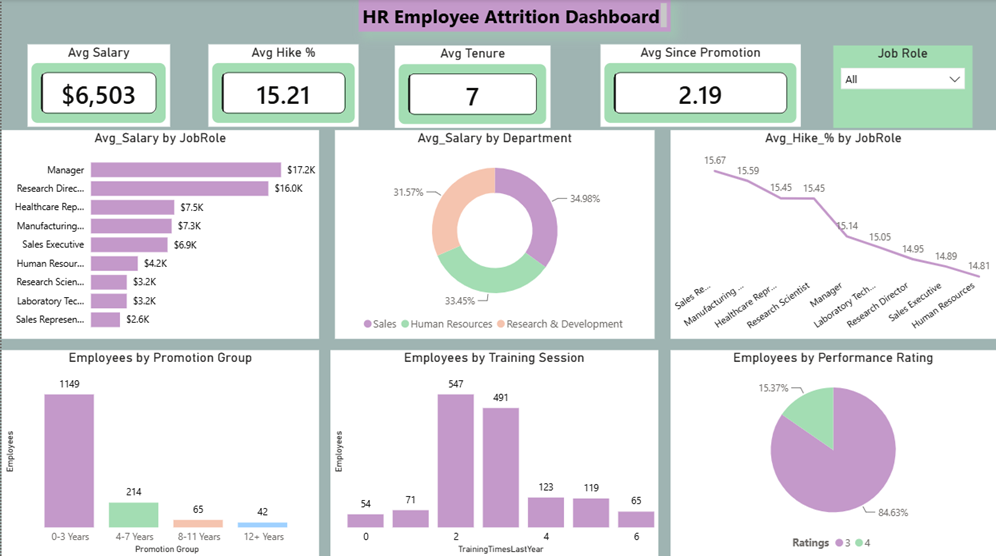

Layout of this report page (visuals, bound fields, positions):
{"tool":"powerbi","page":{"name":"Compensation_Career_Growth","canvas":[1280,720],"ordinal":2},"visuals":[{"type":"cardVisual","title":"Avg Hike %","fields":{"Data":["Employees.Avg_Hike_%"]},"box":[266.1,58.2,193.4,106.2],"z":0},{"type":"cardVisual","title":"Avg Since Promotion","fields":{"Data":["Employees.Avg_Years_Since_Promotion"]},"box":[770.7,58.2,257.4,106.2],"z":1000},{"type":"cardVisual","title":"Avg Salary","fields":{"Data":["Employees.Avg_Salary"]},"box":[33.4,58.2,183.2,106.2],"z":2000},{"type":"cardVisual","title":"Avg Tenure","fields":{"Data":["Employees.Avg_Tenure"]},"box":[506,59.6,200.7,106.2],"z":3000},{"type":"clusteredBarChart","fields":{"Category":["Employees.JobRole"],"Y":["Employees.Avg_Salary"]},"box":[0,168.7,408.6,269],"z":4000},{"type":"donutChart","fields":{"Category":["Employees.Department"],"Y":["Employees.Avg_Salary"]},"box":[429,168.7,411.5,269],"z":5000},{"type":"lineChart","fields":{"Y":["Employees.Avg_Hike_%"],"Category":["Employees.JobRole"]},"box":[860.8,168.7,418.8,269],"z":6000},{"type":"columnChart","title":"Employees by Promotion Group","fields":{"Category":["Employees.Promotion Group"],"Y":["Employees.Total_Employees"]},"box":[0,452.2,408.6,267.6],"z":7000},{"type":"clusteredColumnChart","title":"Employees by Training Session","fields":{"Y":["Employees.Total_Employees"],"Category":["Employees.TrainingTimesLastYear"]},"box":[423.2,452.2,421.7,267.6],"z":8000},{"type":"pieChart","title":"Employees by Performance Rating","fields":{"Category":["Employees.PerformanceRating"],"Y":["Employees.Total_Employees"]},"box":[860.8,452.2,418.8,267.6],"z":9000},{"type":"textbox","box":[459.4,0,401.4,42],"z":10000},{"type":"slicer","title":"Job Role","fields":{"Values":["Employees.JobRole"]},"box":[1070.2,59.6,178.9,106.2],"z":11000}]}

Visuals, with their boxes in screenshot pixels (x1, y1, x2, y2), scaled from the page's 1280x720 canvas onto the 996x560 screenshot:
"Avg Hike %" cardVisual: 207/45/358/128
"Avg Since Promotion" cardVisual: 600/45/800/128
"Avg Salary" cardVisual: 26/45/169/128
"Avg Tenure" cardVisual: 394/46/550/129
clusteredBarChart - Employees.JobRole x Employees.Avg_Salary: 0/131/318/340
donutChart - Employees.Department x Employees.Avg_Salary: 334/131/654/340
lineChart - Employees.Avg_Hike_% x Employees.JobRole: 670/131/995/340
"Employees by Promotion Group" columnChart: 0/352/318/559
"Employees by Training Session" clusteredColumnChart: 329/352/657/559
"Employees by Performance Rating" pieChart: 670/352/995/559
textbox: 357/0/670/33
"Job Role" slicer: 833/46/972/129
